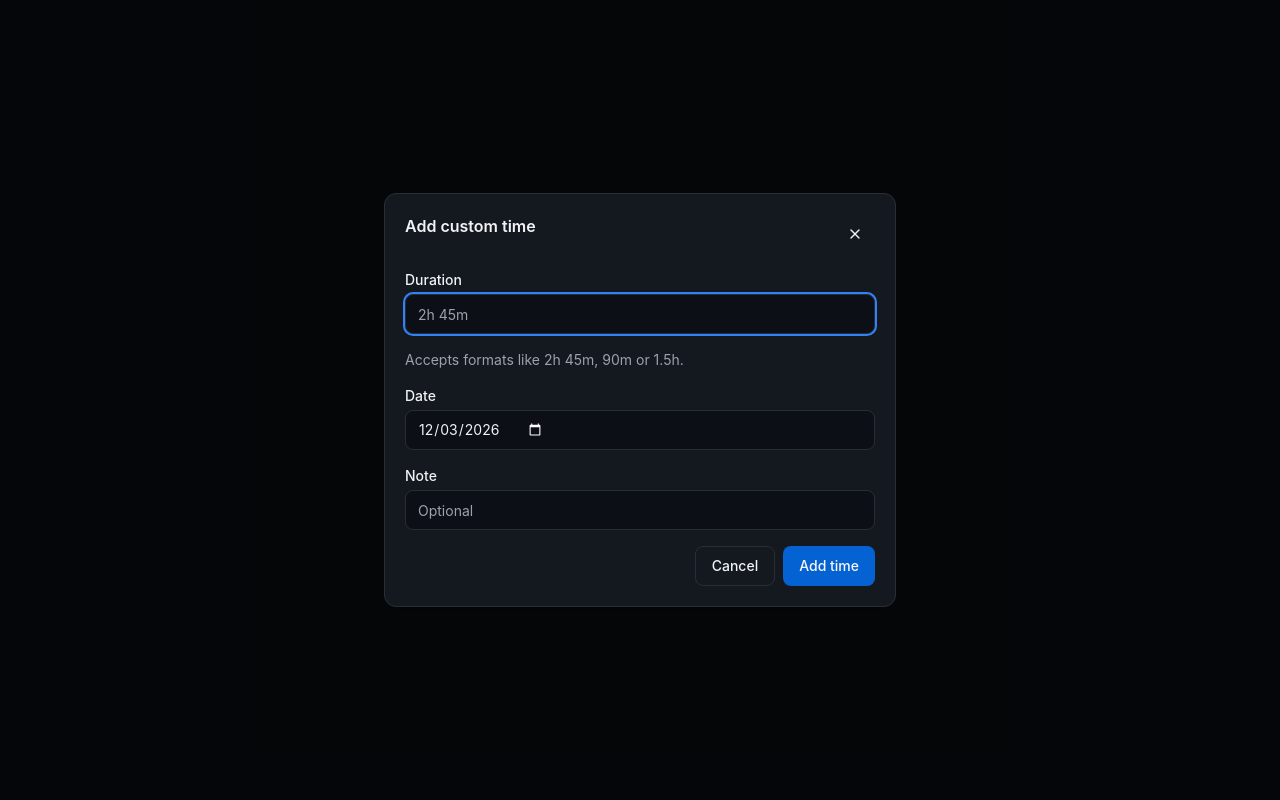
Test case: CustomDurationDialog › shows a preview when valid duration is typed
Type "1h 30m" into the field with placeholder "2h 45m". click: [640, 314]
box: [405, 294, 875, 334]
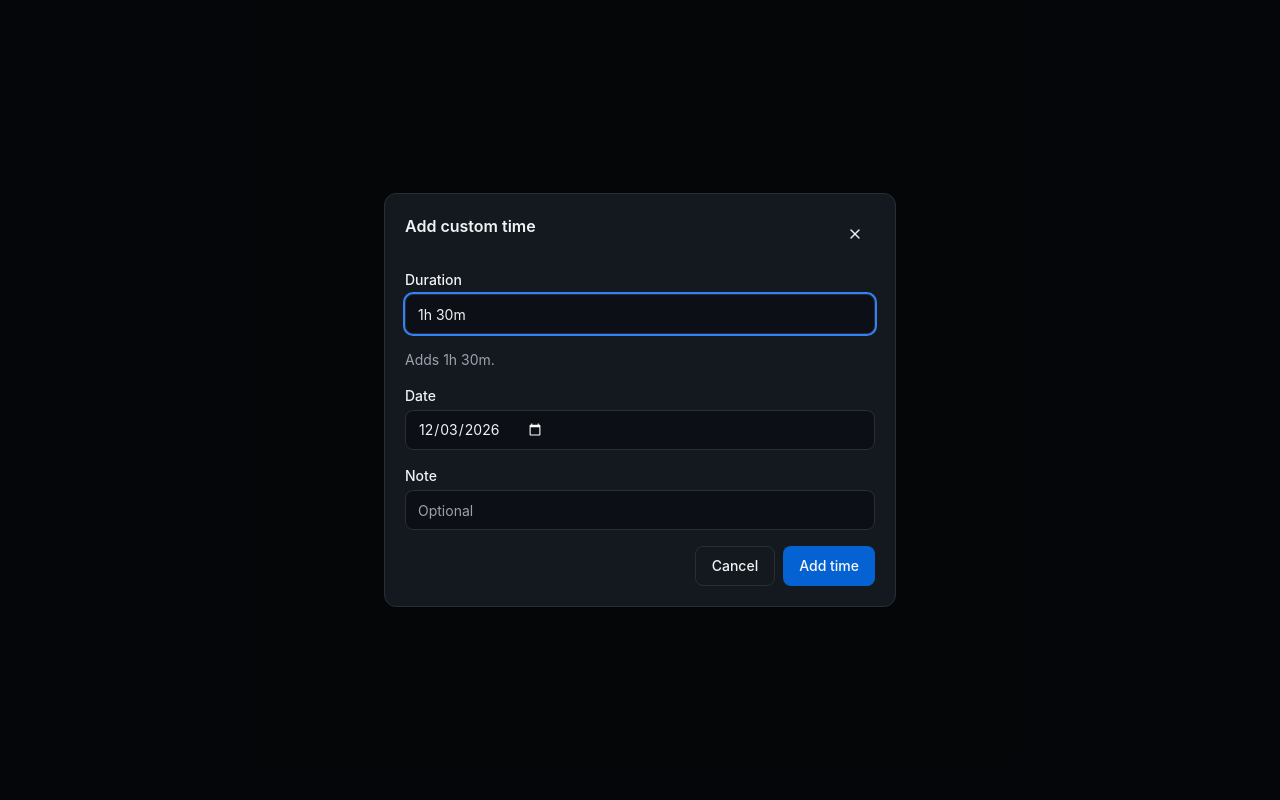
Now the text "Adds 1h 30m." is shown, box [405, 351, 495, 368]
